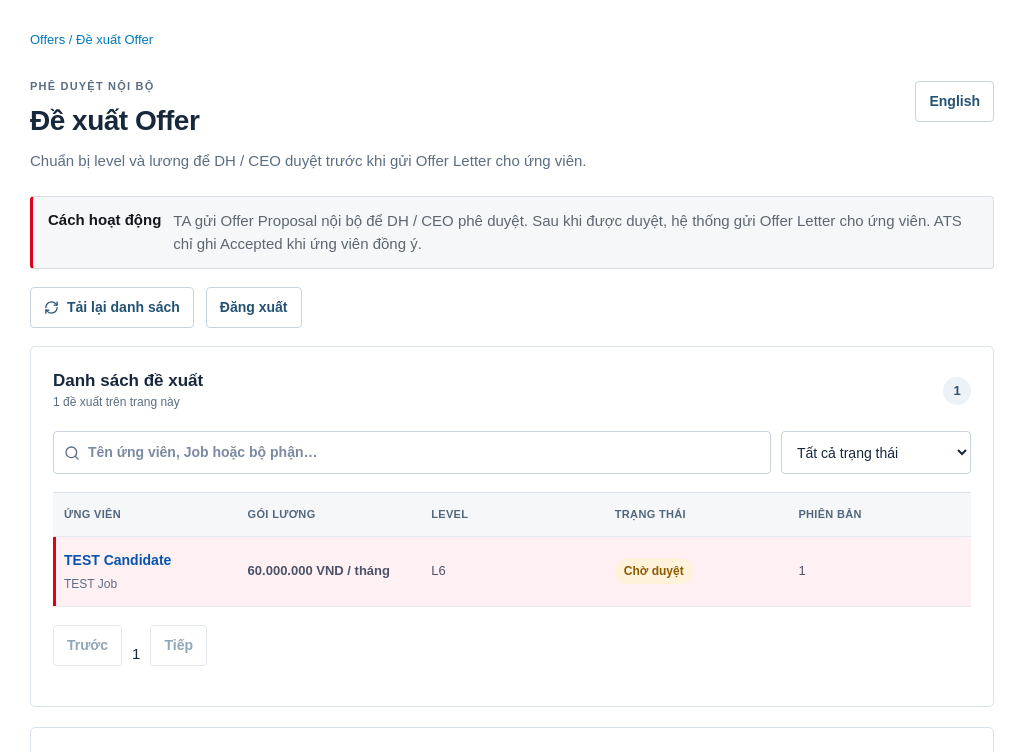
it: Offer approval workflow › logout removes the proposal and all write controls
Click the button "Đăng xuất" at (254, 307), box [206, 287, 302, 328]
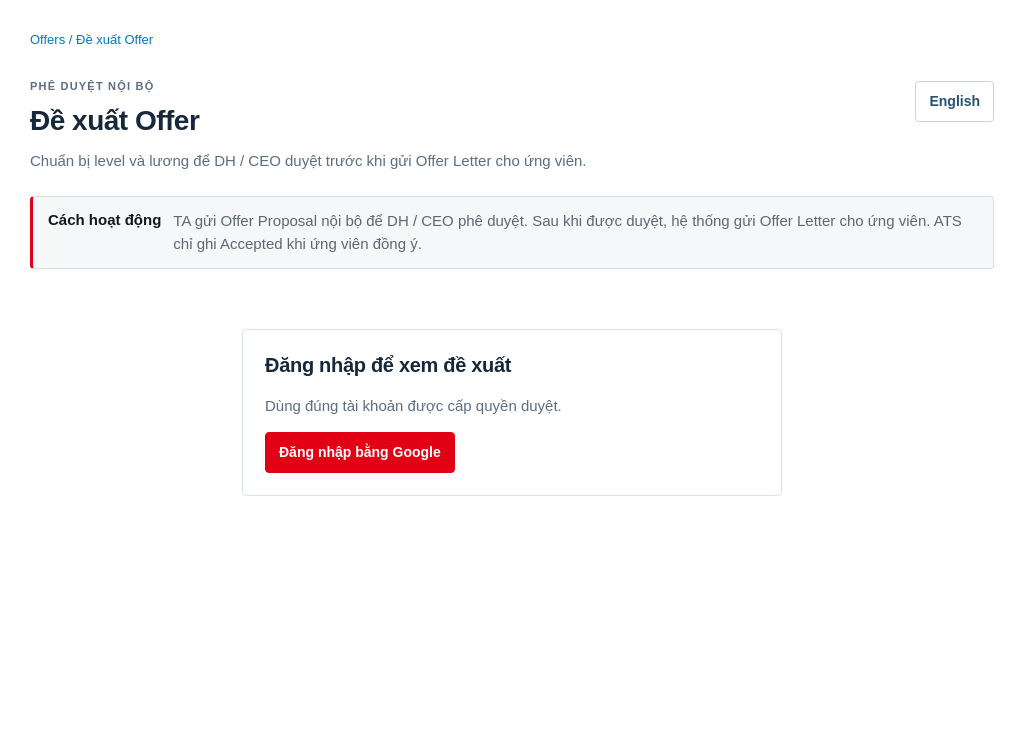
Expected: the button "Đăng nhập bằng Google" is shown, [265, 432, 455, 473]
Expected: the button "TEST Candidate" is gone
